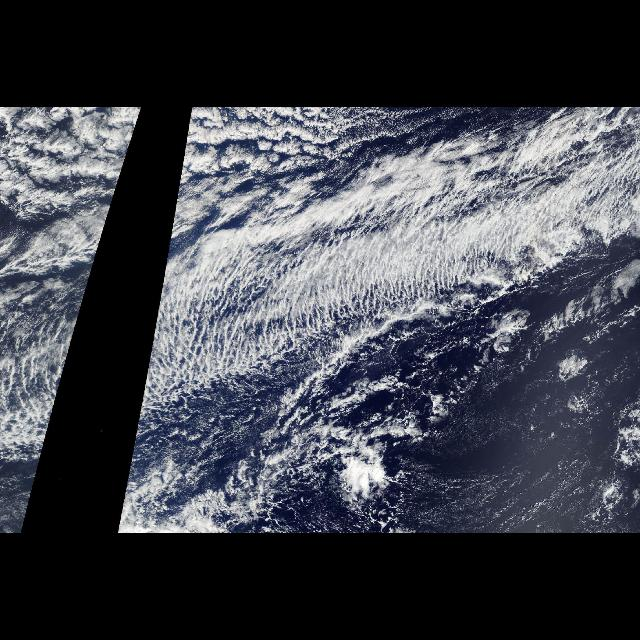Fish: (132, 156, 640, 452), (3, 156, 128, 452)
Sugar: (402, 346, 640, 534)
